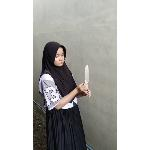Pisau: (82, 61, 91, 96)
